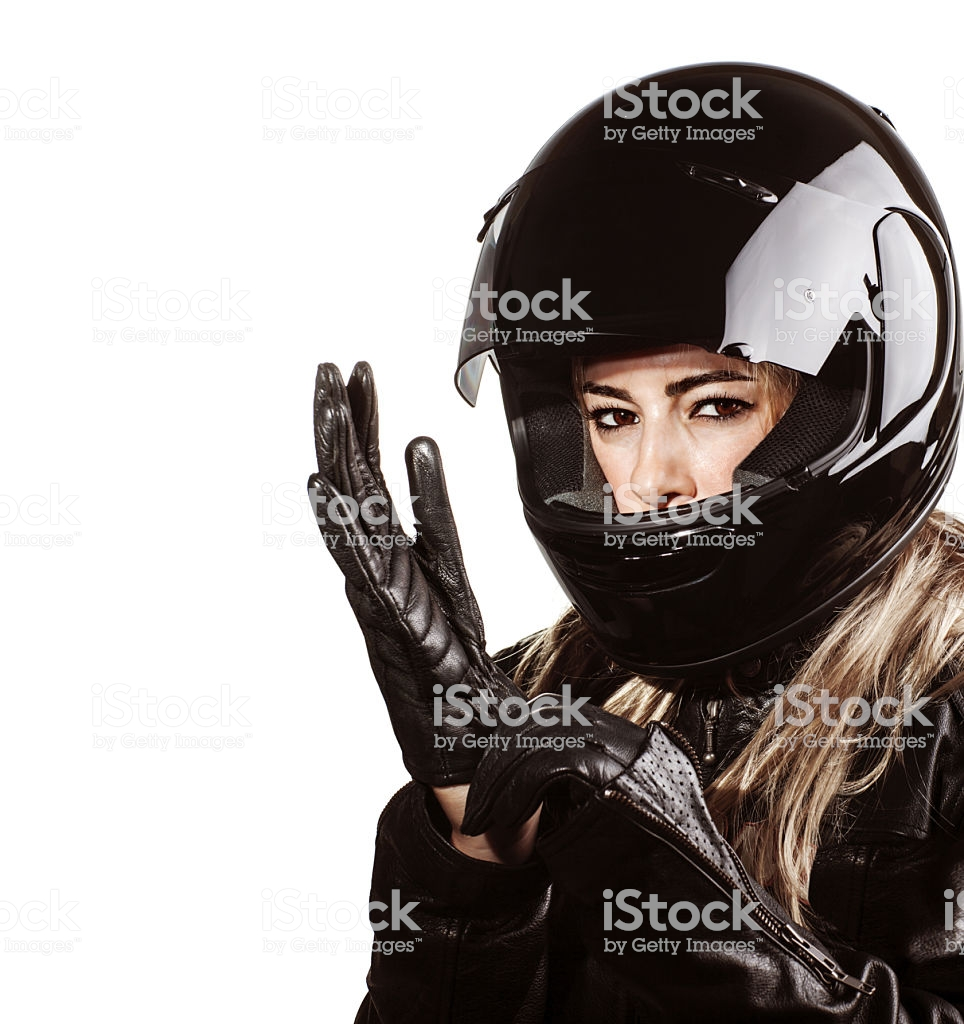helmet: (448, 96, 954, 611)
